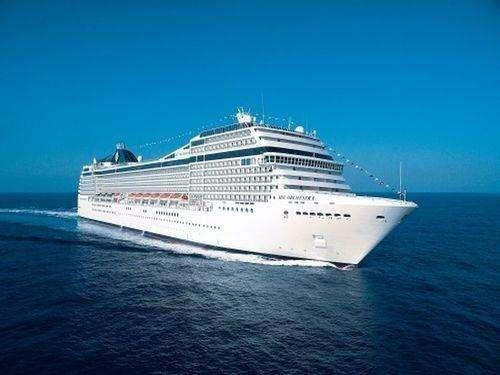youlun: (74, 106, 417, 273)
